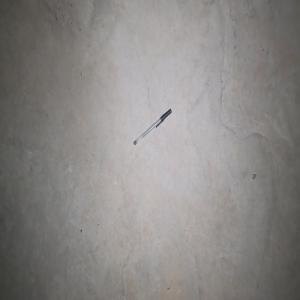Pen: (133, 108, 171, 145)
